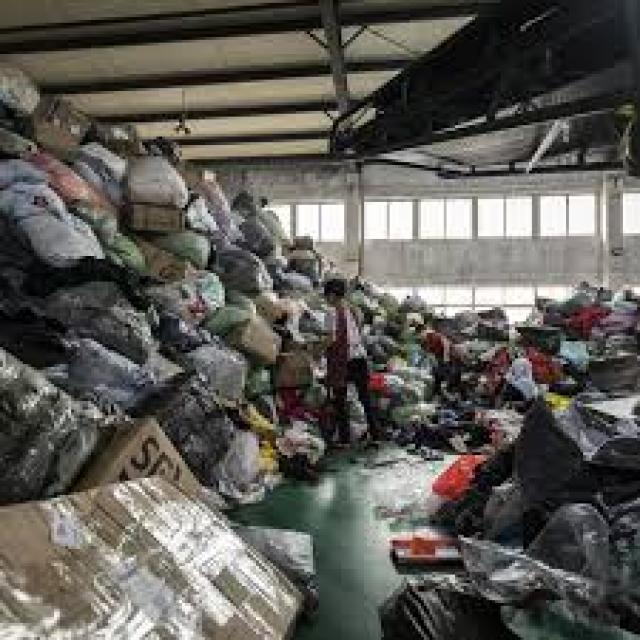Clothes -Biodegradable-: (0, 59, 640, 534), (382, 402, 640, 640)
Plastic -Non-Biodegradable but Recyclable-: (6, 473, 303, 640)
